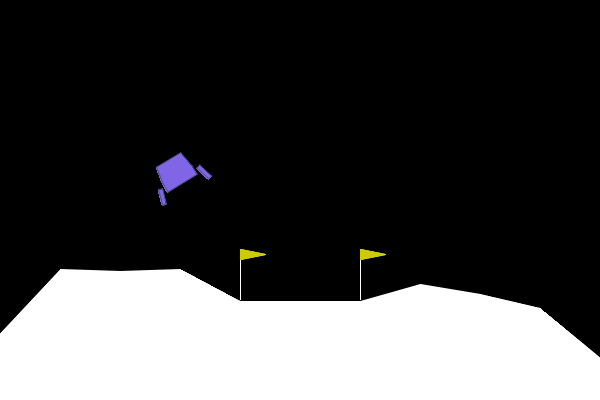lander: (141, 143, 213, 208)
